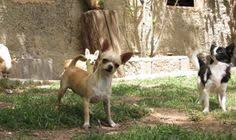chihuahua: (49, 30, 145, 132)
